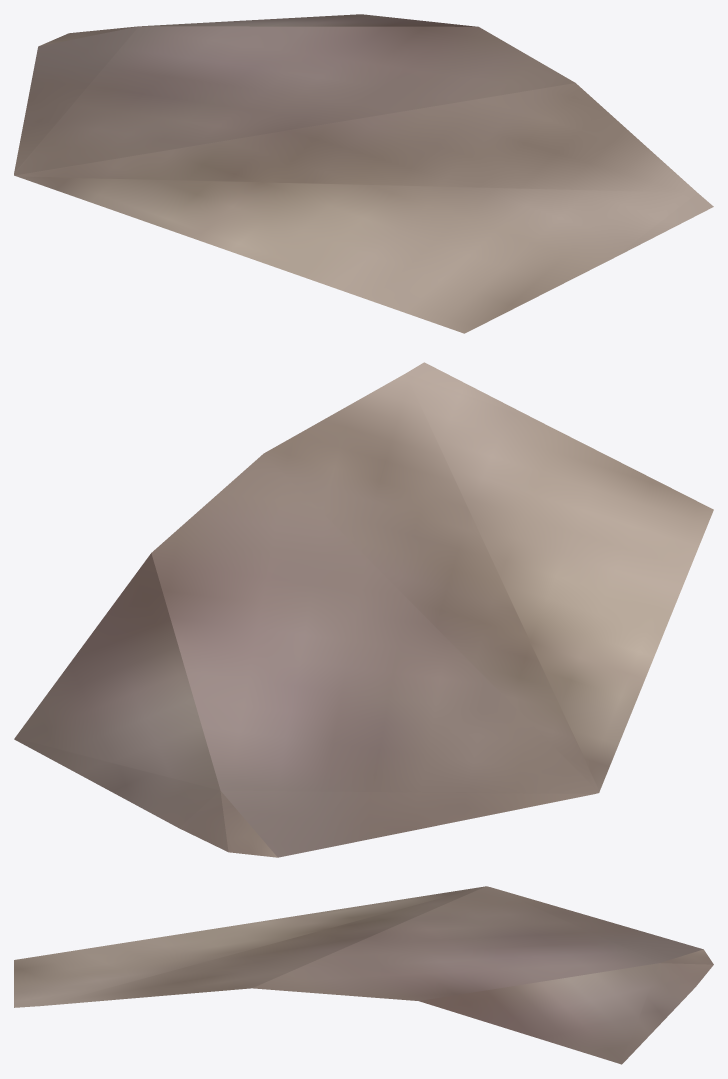
The picture shows the model from 3 angles, top to bottom: view 1: azimuth 30°, elevation 25°; view 2: azimuth 150°, elevation 25°; view 3: azimuth 270°, elevation 25°; orthographic projection. The views are drawn at different scales.
Size of the model in its own units: 0.0389 by 0.00776 by 0.0645.
1 material, 1 textured.
